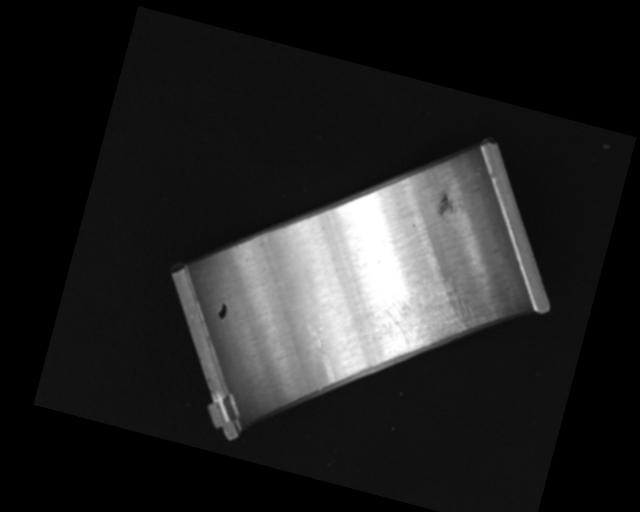blot: (216, 301, 230, 321)
bruise: (433, 191, 457, 222)
nick: (293, 309, 352, 384)
scratch: (358, 258, 503, 379)
